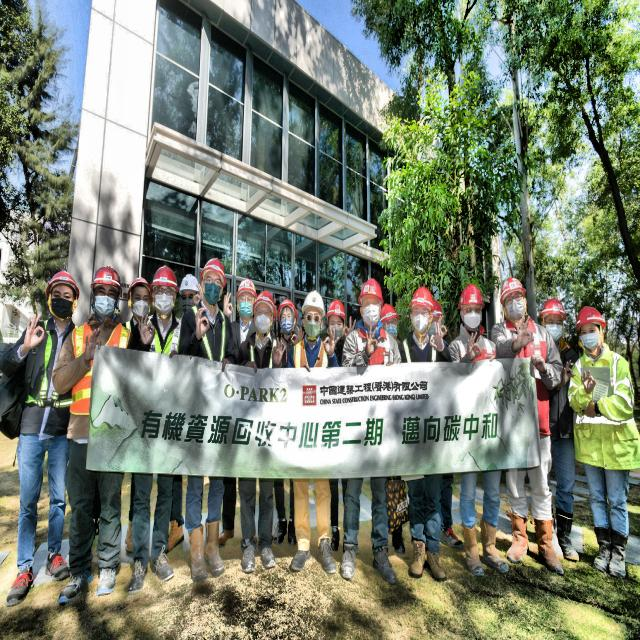safety_helmet: (150, 258, 182, 297), (40, 268, 81, 297), (90, 267, 126, 298), (574, 304, 608, 334), (198, 256, 228, 290), (150, 263, 180, 296), (456, 282, 486, 312), (129, 274, 154, 309), (357, 277, 386, 307), (412, 279, 436, 313), (502, 268, 525, 302), (321, 295, 348, 322), (252, 288, 276, 318), (235, 277, 257, 307), (541, 296, 565, 322), (303, 287, 324, 315), (180, 268, 198, 298), (274, 297, 296, 319), (379, 296, 398, 318)
safety_jacket: (565, 303, 639, 582), (566, 343, 639, 475), (66, 318, 140, 427), (490, 319, 554, 445), (339, 328, 403, 436), (446, 337, 498, 441), (23, 319, 79, 415), (398, 333, 444, 446), (284, 331, 336, 378)
